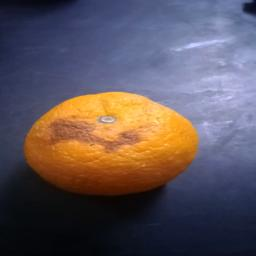Orange Semifresh: (20, 77, 202, 207)
